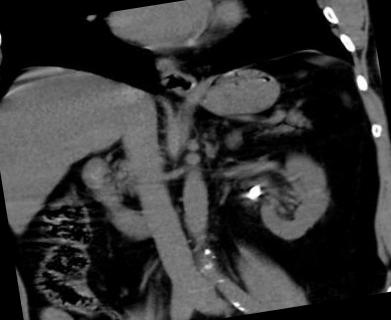Tas_Var: (244, 182, 264, 202)
